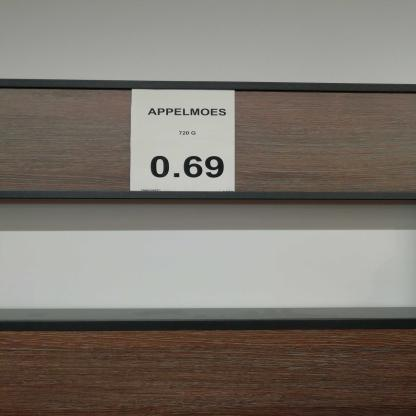prtg: (131, 90, 236, 193)
